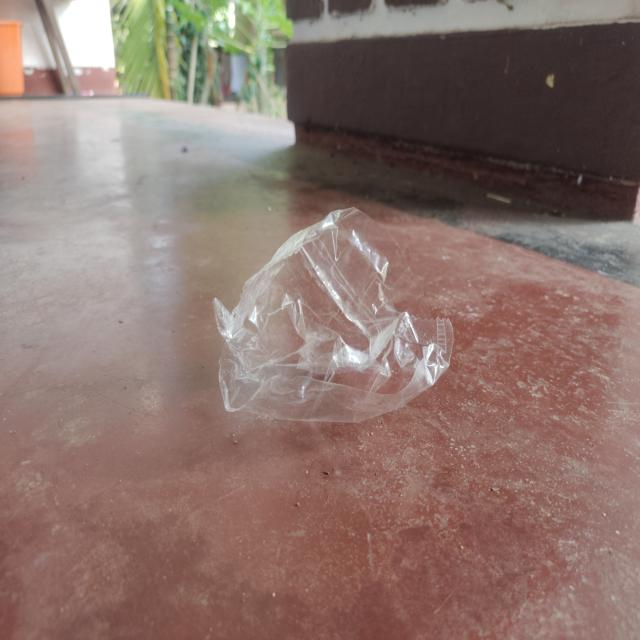plastic: (208, 203, 457, 426)
